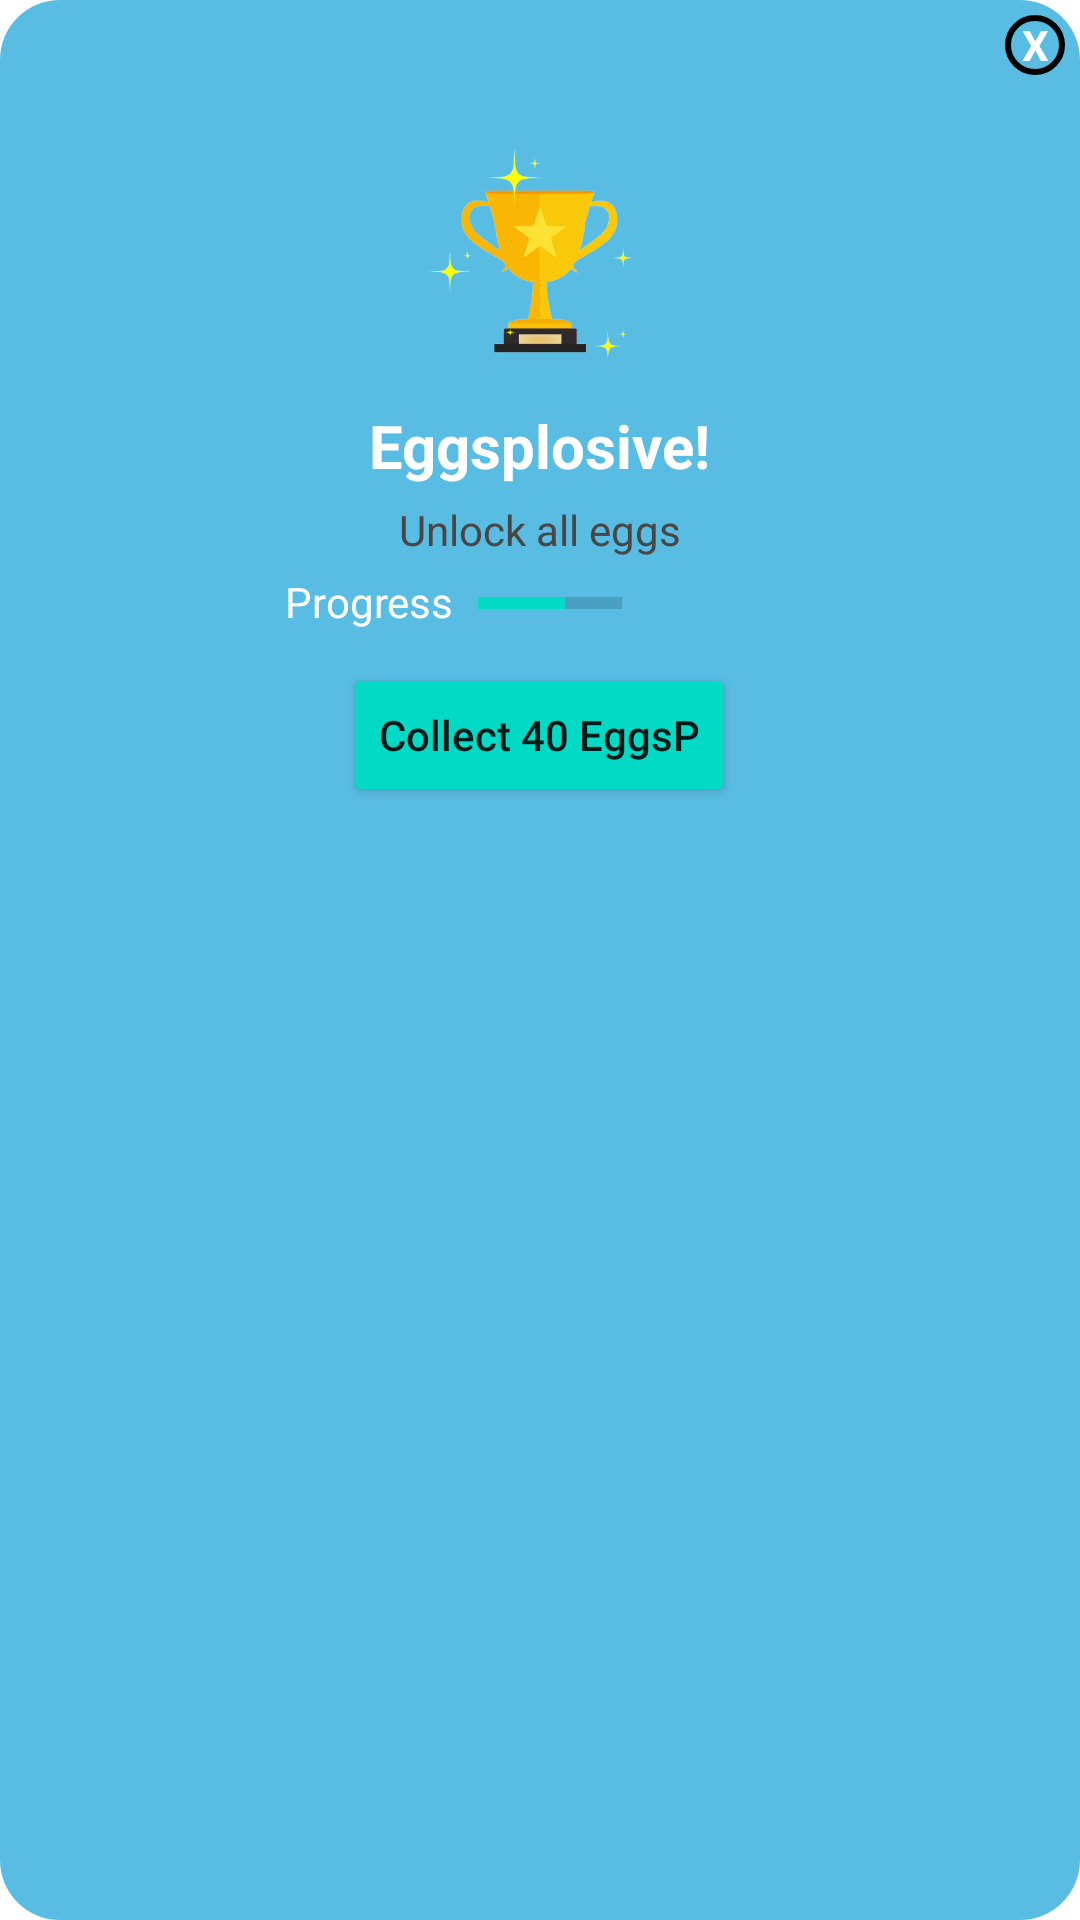

Icons on this 1080px×1920px Android screen, each with the point to tap as [x,y]:
trophy: [531,254]
